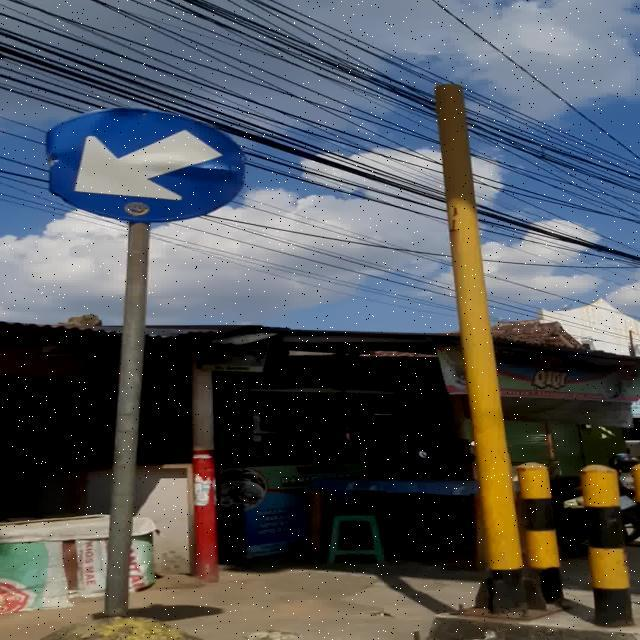Lajur Kiri: (45, 108, 244, 222)
